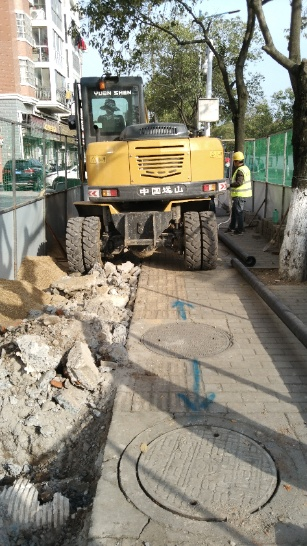good: (119, 415, 299, 536), (143, 320, 236, 360)
